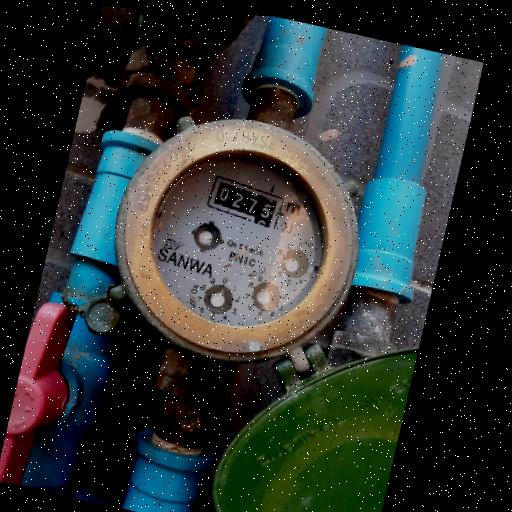0: (211, 180, 234, 207)
2: (224, 185, 249, 213)
5: (253, 195, 279, 228)
7: (241, 191, 263, 218)
border_water_meter_number: (203, 173, 288, 231)
